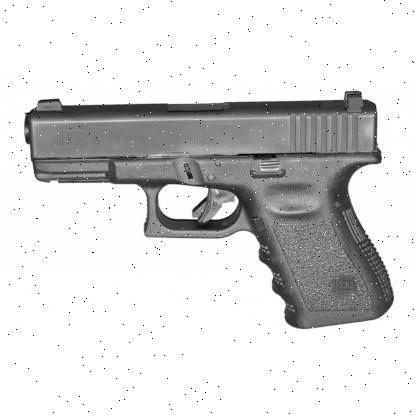gun: (17, 88, 395, 330)
